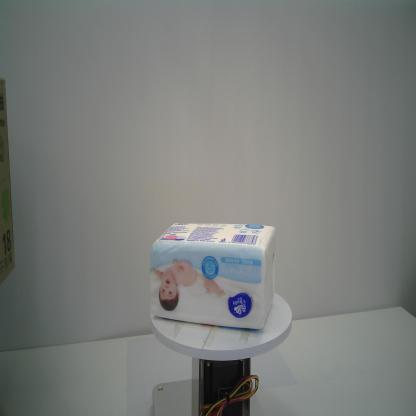Tissue: (149, 221, 276, 330)
